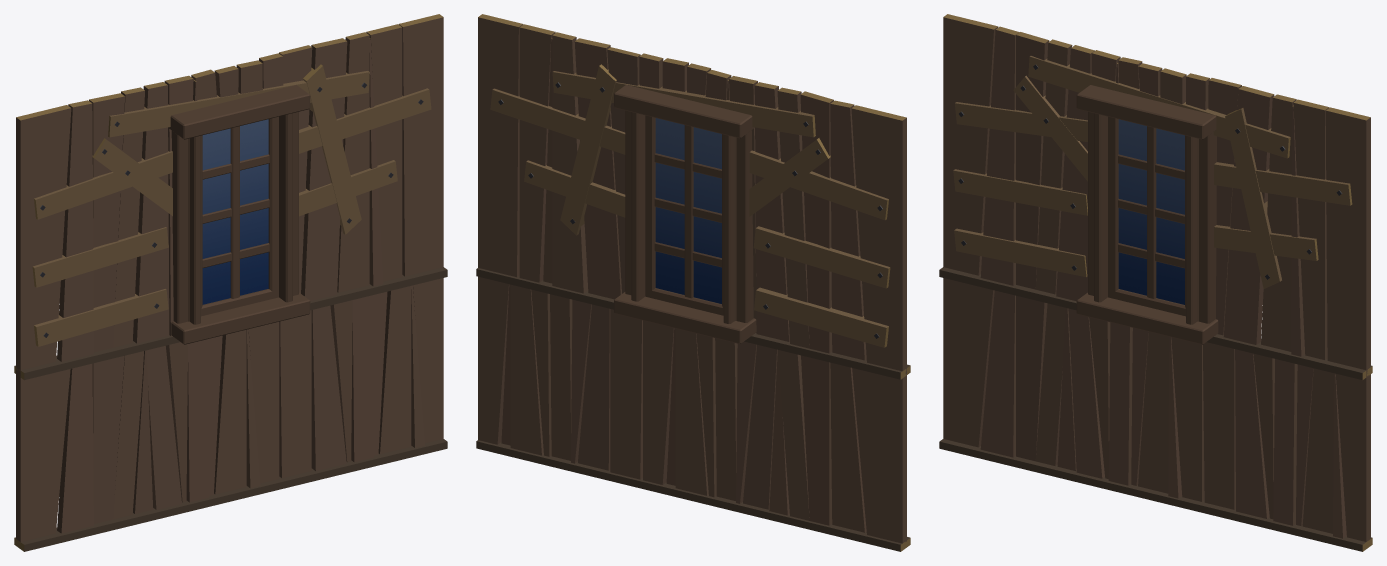
The model's file is Wall_2E_Window_6m.fbx.
The picture shows the model from 3 angles, left to right: view 1: azimuth 30°, elevation 25°; view 2: azimuth 150°, elevation 25°; view 3: azimuth 330°, elevation 25°; orthographic projection.
Visible parts, largest first — view 1: pCube2423; view 2: pCube2423; view 3: pCube2423.
Part boxes in pixels (<box>): pCube2423: <box>14,14,447,551</box>; pCube2423: <box>476,14,910,551</box>; pCube2423: <box>939,14,1372,551</box>.
Size of the model in its own units: 600 by 581 by 80.
